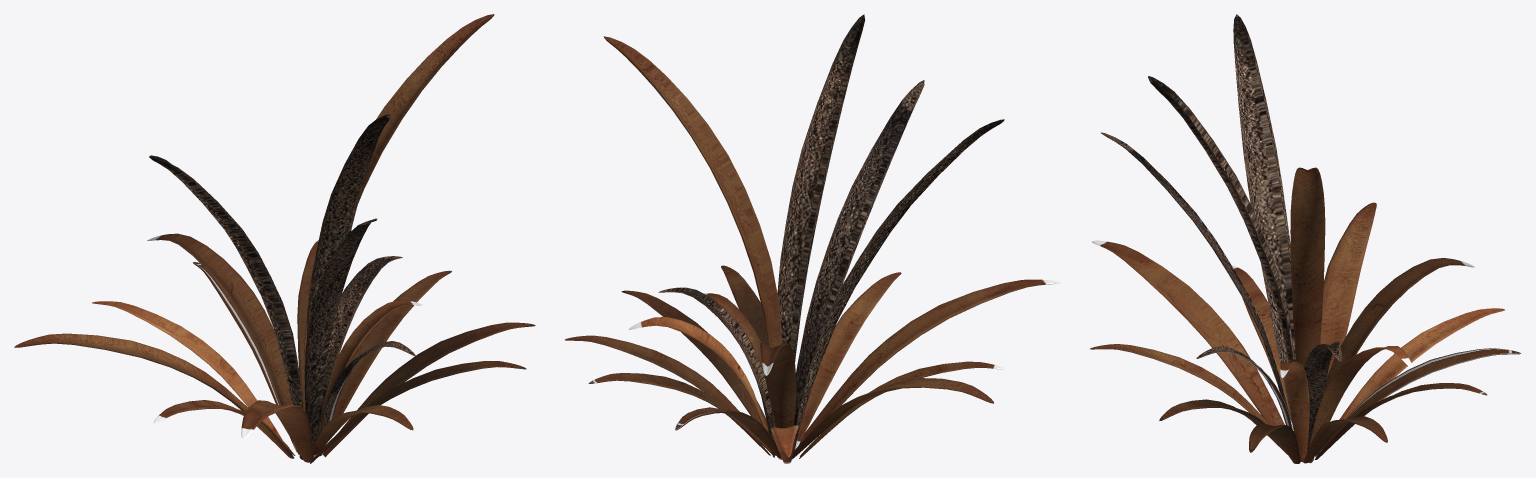
3 views of the same model, side by side, from view 1: azimuth 30°, elevation 25°; view 2: azimuth 150°, elevation 25°; view 3: azimuth 270°, elevation 25° (orthographic). The views are drawn at different scales.
Visible parts, largest first — view 1: _Plant_1_0; view 2: _Plant_1_0; view 3: _Plant_1_0.
Part boxes in pixels (<box>): _Plant_1_0: <box>14,14,535,463</box>; _Plant_1_0: <box>565,14,1060,463</box>; _Plant_1_0: <box>1090,14,1520,463</box>.
Bounding box in the file's own units: 452 × 383 × 391.
